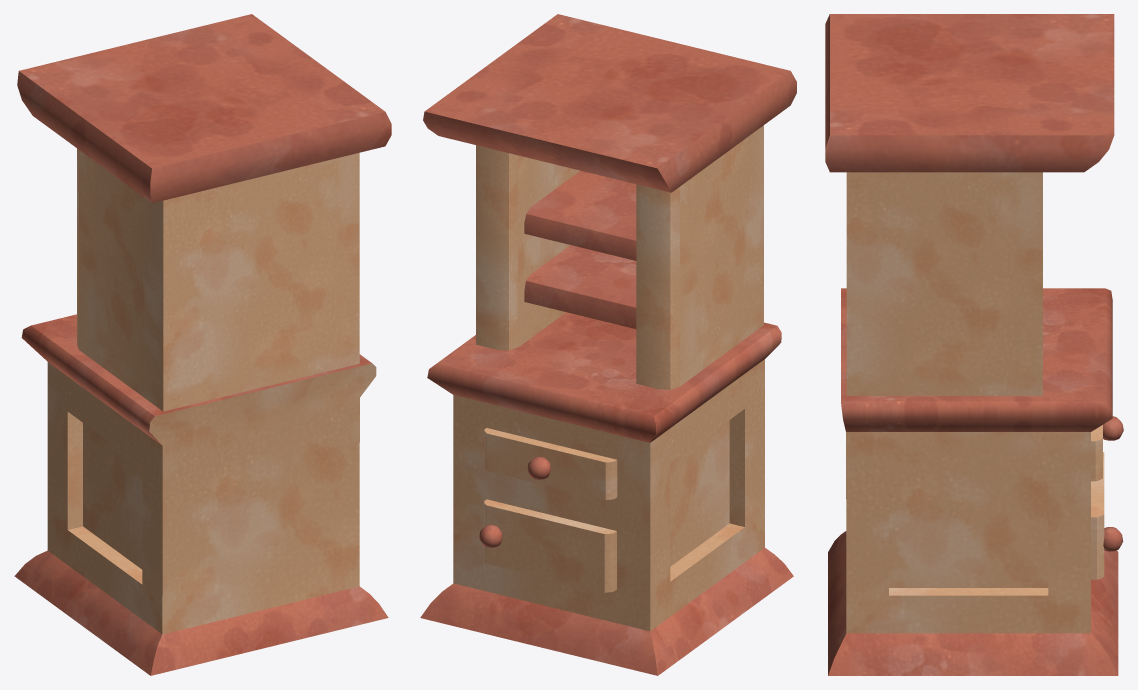
File: SM_Tall_Dresser.fbx
The picture shows the model from 3 angles, left to right: view 1: azimuth 30°, elevation 25°; view 2: azimuth 150°, elevation 25°; view 3: azimuth 270°, elevation 25°; orthographic projection. The views are drawn at different scales.
Visible parts, largest first — view 1: SM_Tall_Dresser_pt2, SM_Tall_Dresser_pt1; view 2: SM_Tall_Dresser_pt1, SM_Tall_Dresser_pt2; view 3: SM_Tall_Dresser_pt2, SM_Tall_Dresser_pt1.
Part boxes in pixels (x1,y1,x2,y2): SM_Tall_Dresser_pt2: (17,14,391,411); SM_Tall_Dresser_pt1: (14,314,388,675); SM_Tall_Dresser_pt1: (420,312,793,675); SM_Tall_Dresser_pt2: (423,14,796,389); SM_Tall_Dresser_pt2: (825,14,1114,395); SM_Tall_Dresser_pt1: (828,288,1123,675).
Bounding box in the file's own units: 99.5 × 200 × 100.
